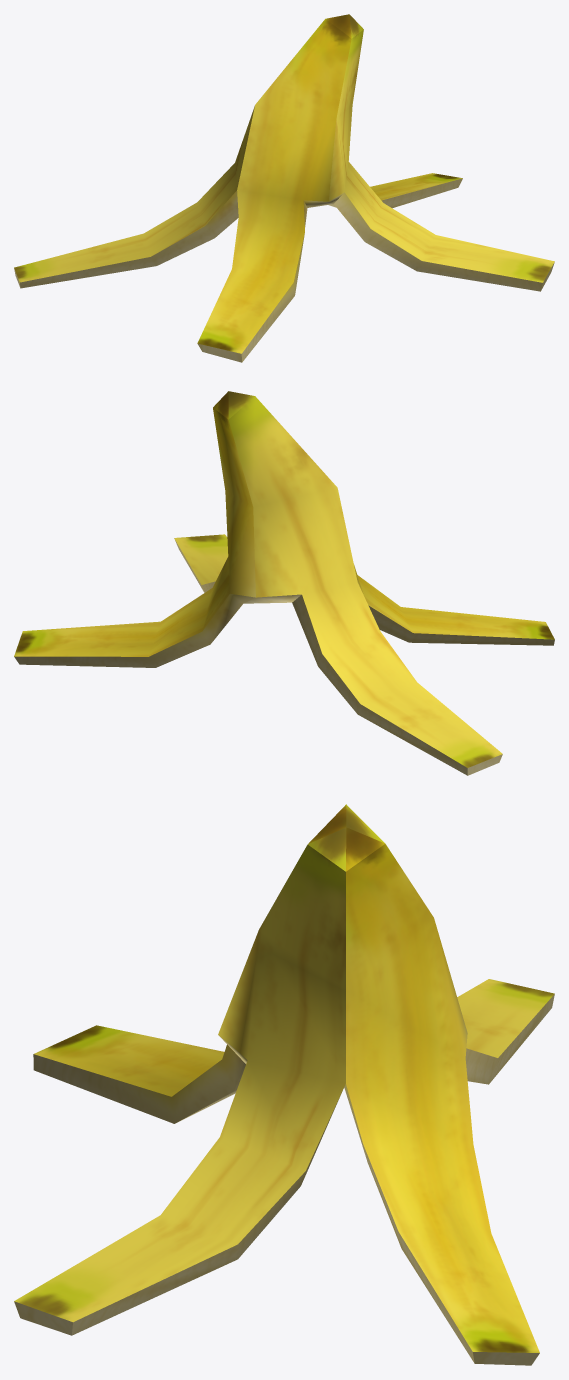
File: Banana peel.FBX
3 views of the same model, one above another, from view 1: azimuth 30°, elevation 25°; view 2: azimuth 150°, elevation 25°; view 3: azimuth 270°, elevation 25° (orthographic). The views are drawn at different scales.
Visible parts, largest first — view 1: Banana peel; view 2: Banana peel; view 3: Banana peel.
Part boxes in pixels (x1,y1,x2,y2): Banana peel: (14, 14, 554, 362); Banana peel: (14, 391, 554, 775); Banana peel: (14, 804, 554, 1365).
Bounding box in the file's own units: 15.13 × 9.24 × 8.01.
